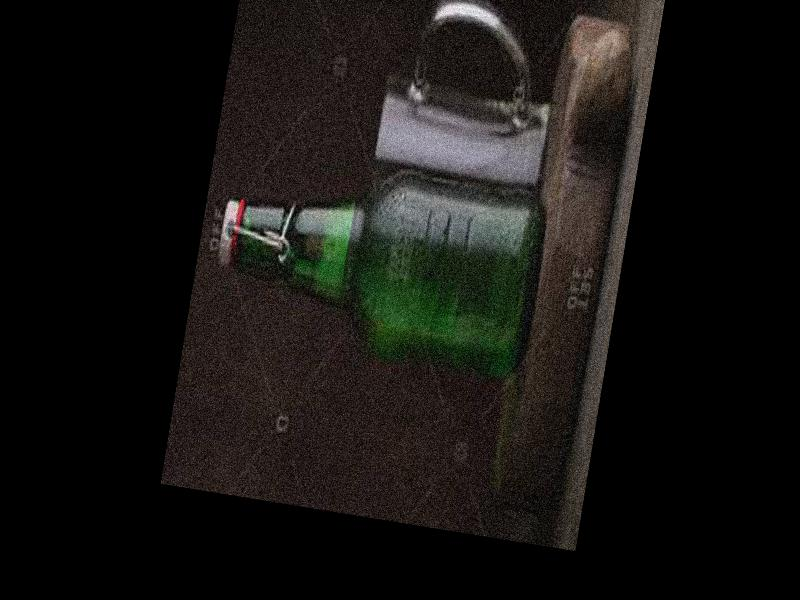Beer: (207, 148, 550, 374)
